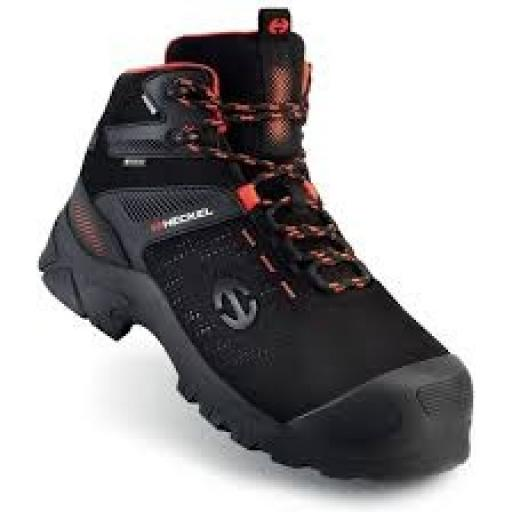safety_boots: (30, 12, 484, 484)
